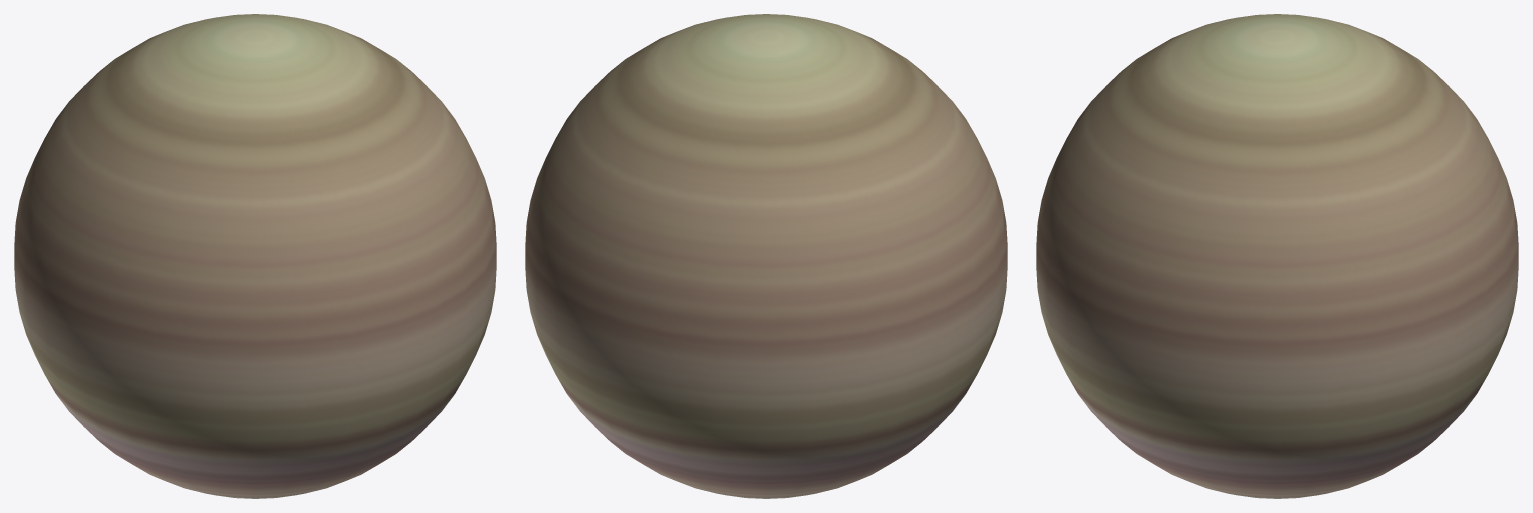
The model's file is Planet2.obj.
The picture shows the model from 3 angles, left to right: view 1: azimuth 30°, elevation 25°; view 2: azimuth 150°, elevation 25°; view 3: azimuth 270°, elevation 25°; orthographic projection.
Visible parts, largest first — view 1: pSphere1; view 2: pSphere1; view 3: pSphere1.
Part boxes in pixels (left/top/right/bottom): pSphere1: left=14, top=14, right=496, bottom=498; pSphere1: left=525, top=14, right=1007, bottom=498; pSphere1: left=1036, top=14, right=1518, bottom=498.
Size of the model in its own units: 2 by 2 by 1.99.
Materials: 1 (1 with a texture image).
